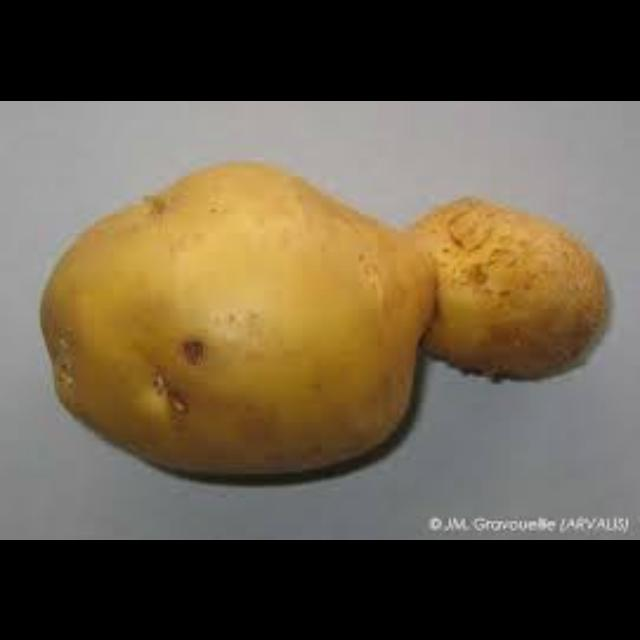Damaged potato: (36, 153, 598, 481)
